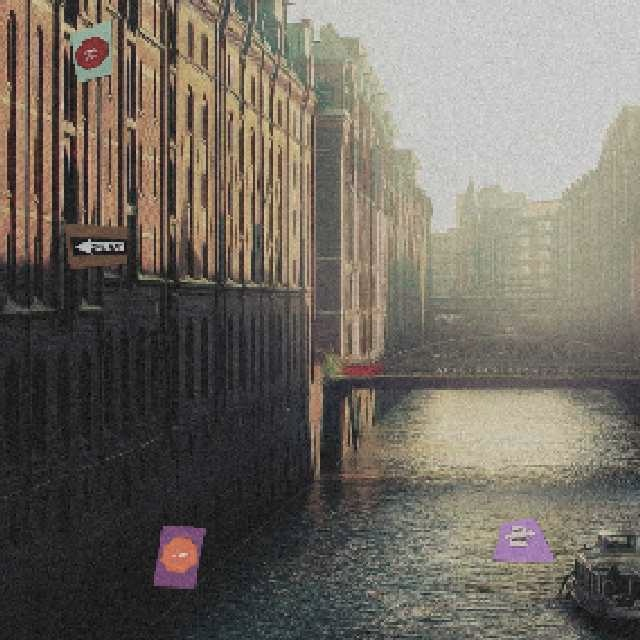DO_NOT_GO_AROUND: (500, 522, 538, 546)
FAKE_STOP: (71, 31, 108, 70)
ONE_WAY_ left: (68, 236, 125, 254)
STOP: (157, 534, 199, 572)
